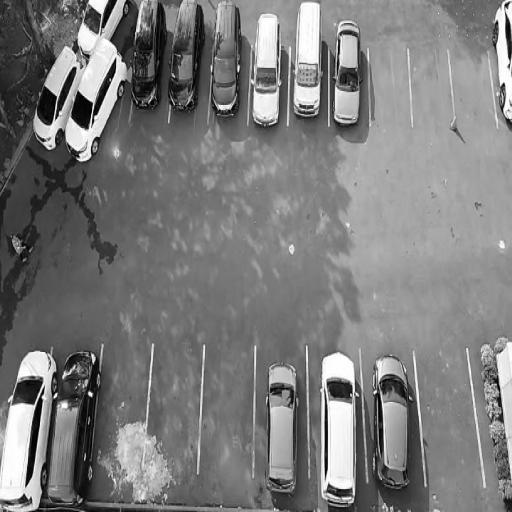Car: (53, 32, 132, 173), (42, 347, 106, 510), (0, 347, 61, 512), (25, 35, 86, 157), (316, 345, 360, 511), (371, 349, 415, 493), (263, 354, 300, 506), (250, 6, 288, 133), (129, 0, 166, 120), (167, 0, 205, 116), (291, 0, 324, 128), (331, 10, 365, 132), (208, 0, 242, 121), (73, 0, 130, 60), (491, 0, 511, 128)
Space Available: (414, 346, 485, 484), (143, 340, 204, 472), (90, 341, 153, 468), (199, 346, 256, 475), (408, 49, 457, 125), (449, 49, 497, 126), (369, 48, 413, 124)
